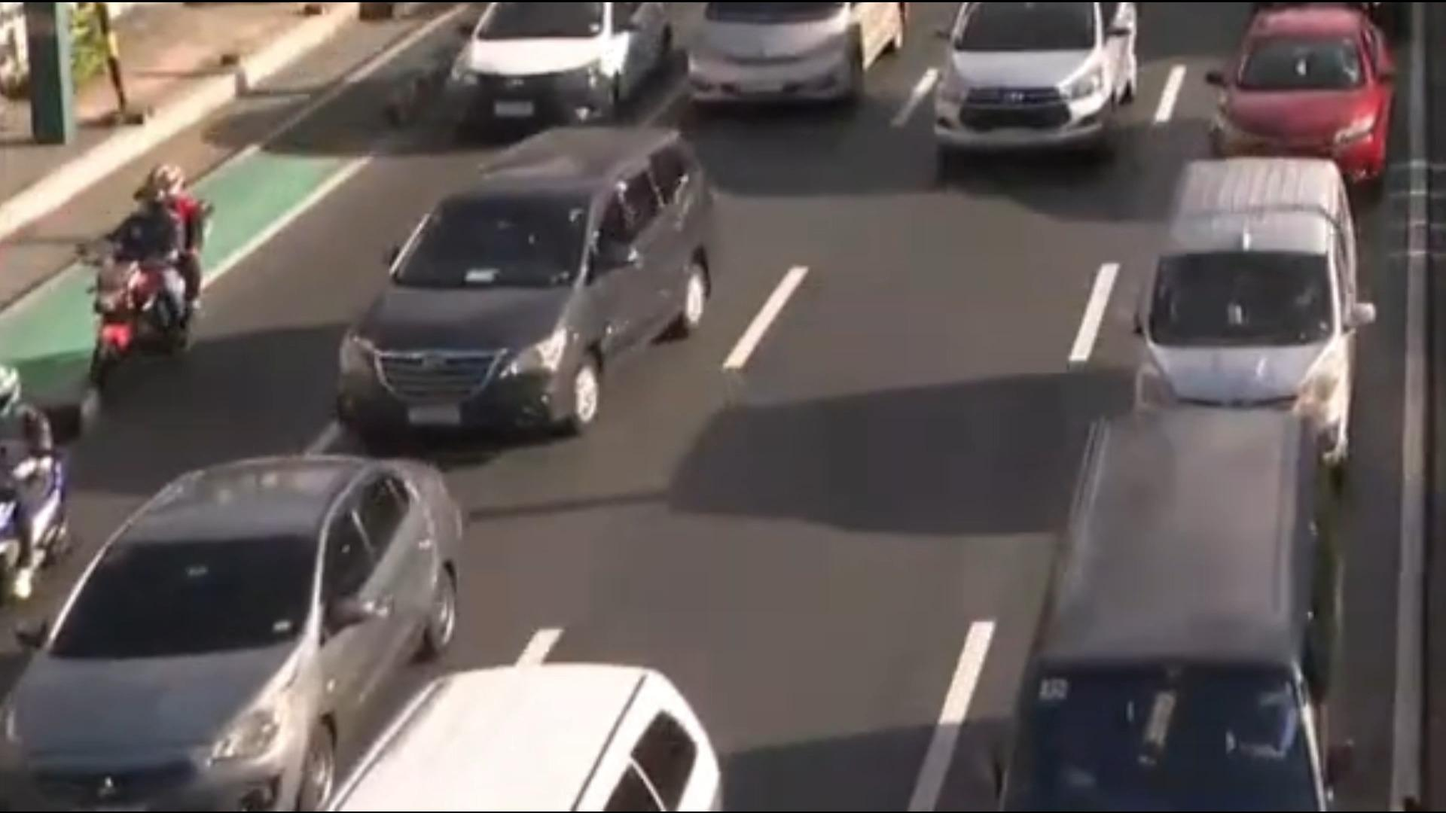Motorcycle: (58, 143, 253, 419)
SUV: (319, 100, 727, 499), (919, 0, 1165, 209)
Sedan: (4, 441, 488, 813), (1230, 0, 1399, 158)
Van: (994, 394, 1396, 813), (1126, 136, 1408, 465)
